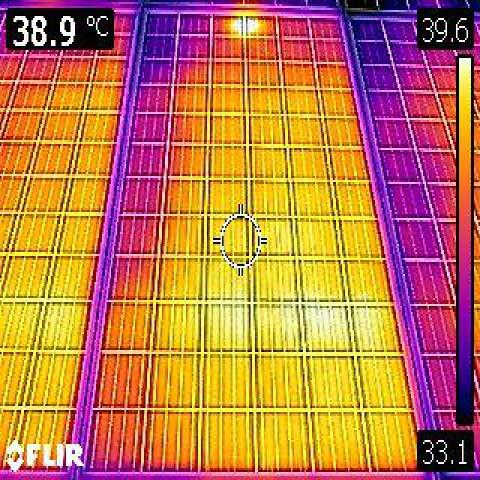fault: (232, 17, 244, 38), (245, 17, 258, 35)
